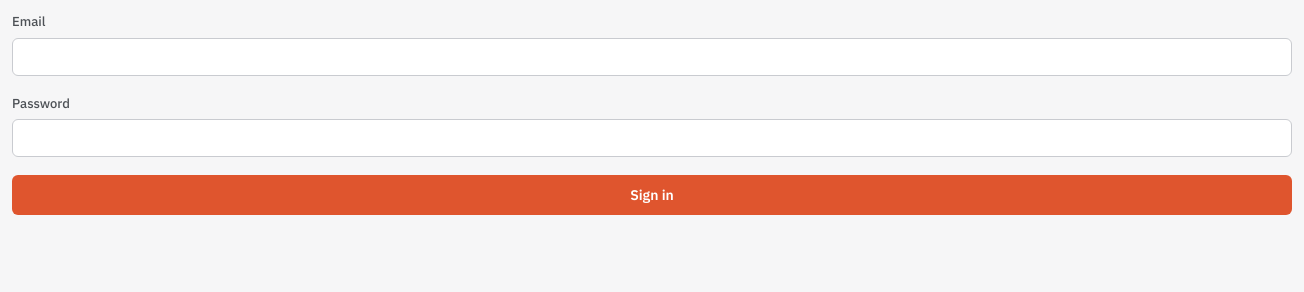
Test case: LoginForm › refuses parent accounts (US-15)
Type "parent@example.com" into the field labelled "Email" at (652,56), box [25,38,1279,74]
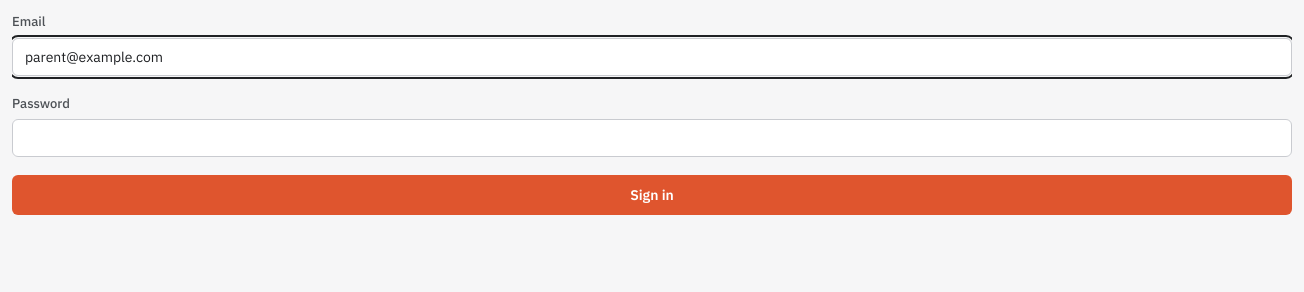
Type "secret" into the password field labelled "Password" at (652,138), box [25,120,1279,156]
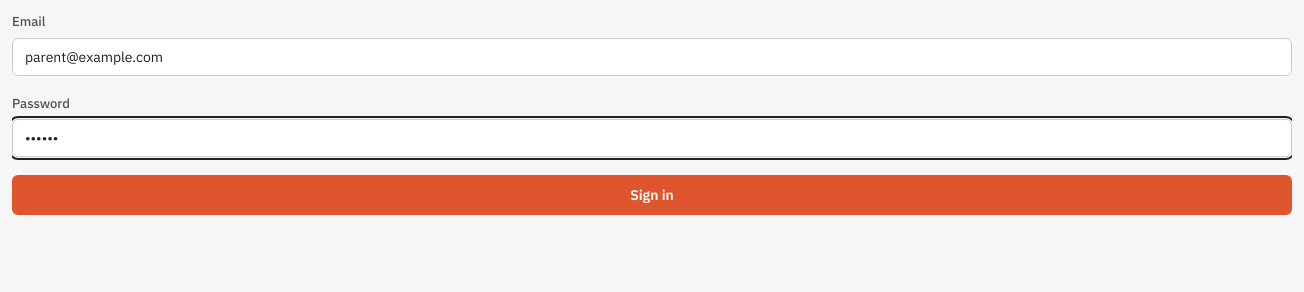
Click the button "Sign in" at (652,195), box [12,175,1292,215]
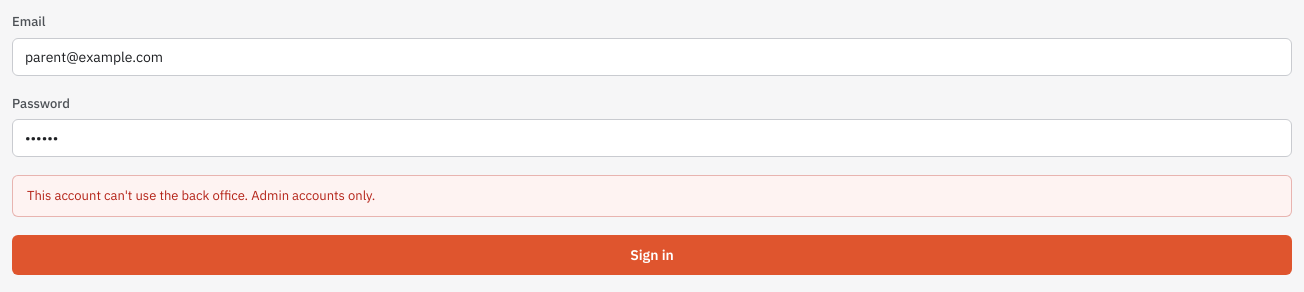
Check: the message shows "Admin accounts only.", box [27,187,375,204]
